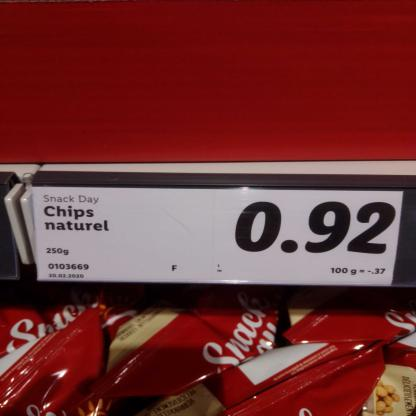prtg: (33, 187, 405, 287)
